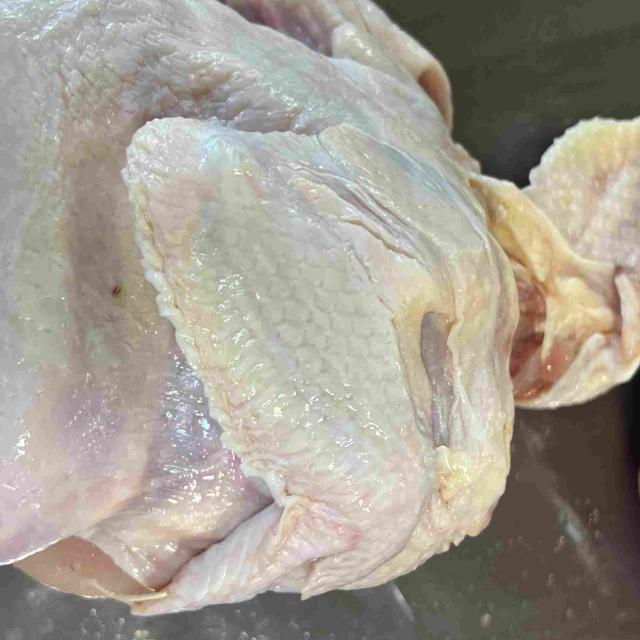leg: (0, 48, 161, 561)
wing: (132, 118, 424, 620), (220, 0, 451, 118)
